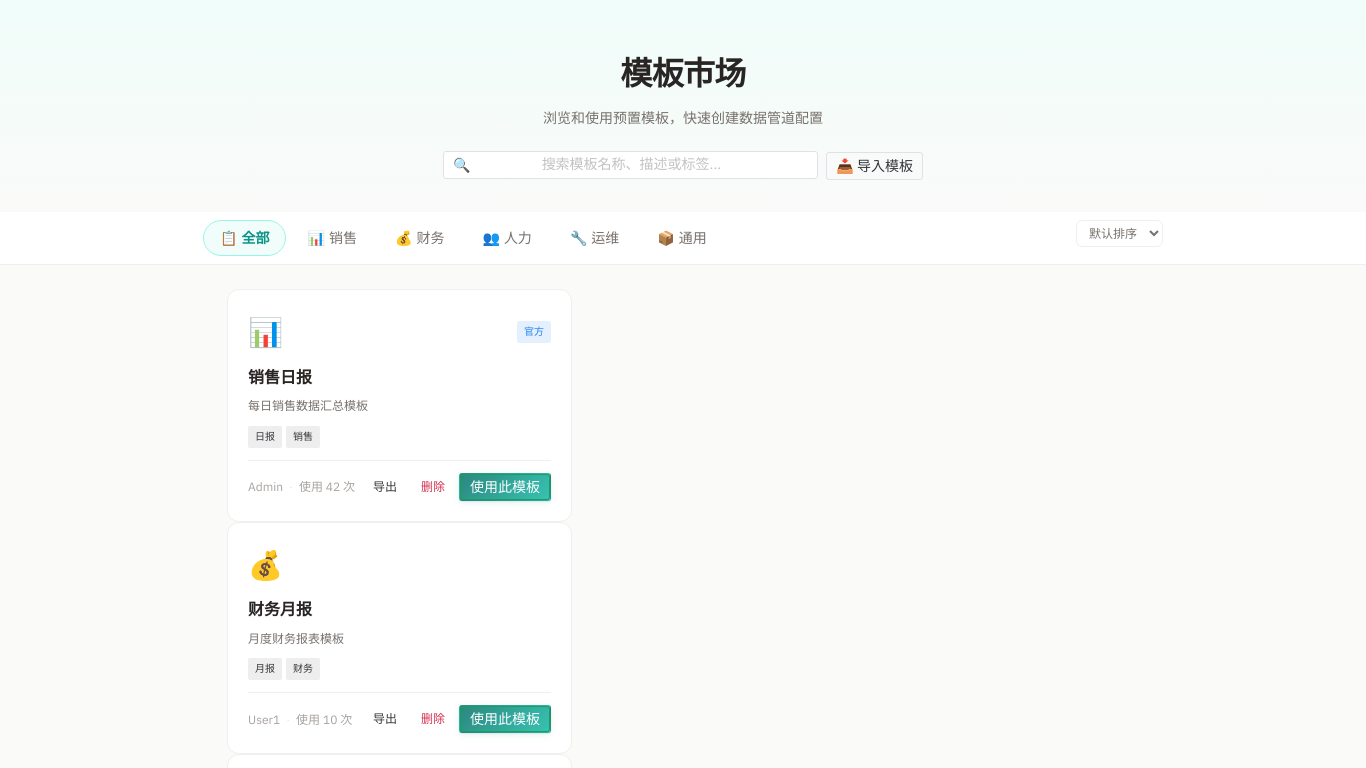
Test: TemplateMarketView › confirms delete and removes template from list
Click delete to enter confirm state
Click the button with class "market__card-delete" in the row of "使用 42 次" at (433, 486), box 411,472 -> 455,500
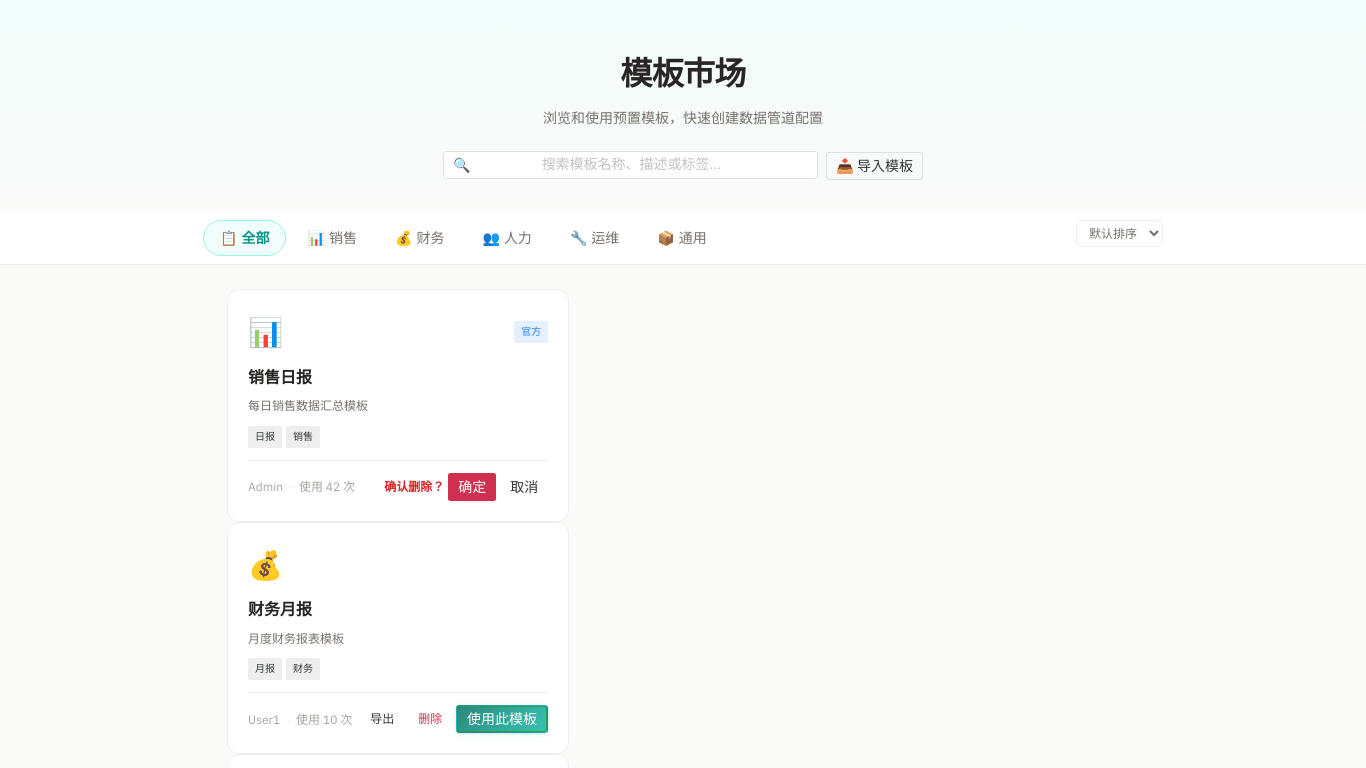
Expected: the button "确定" is shown
Click the button "确定" at (472, 486), box 448,472 -> 496,500
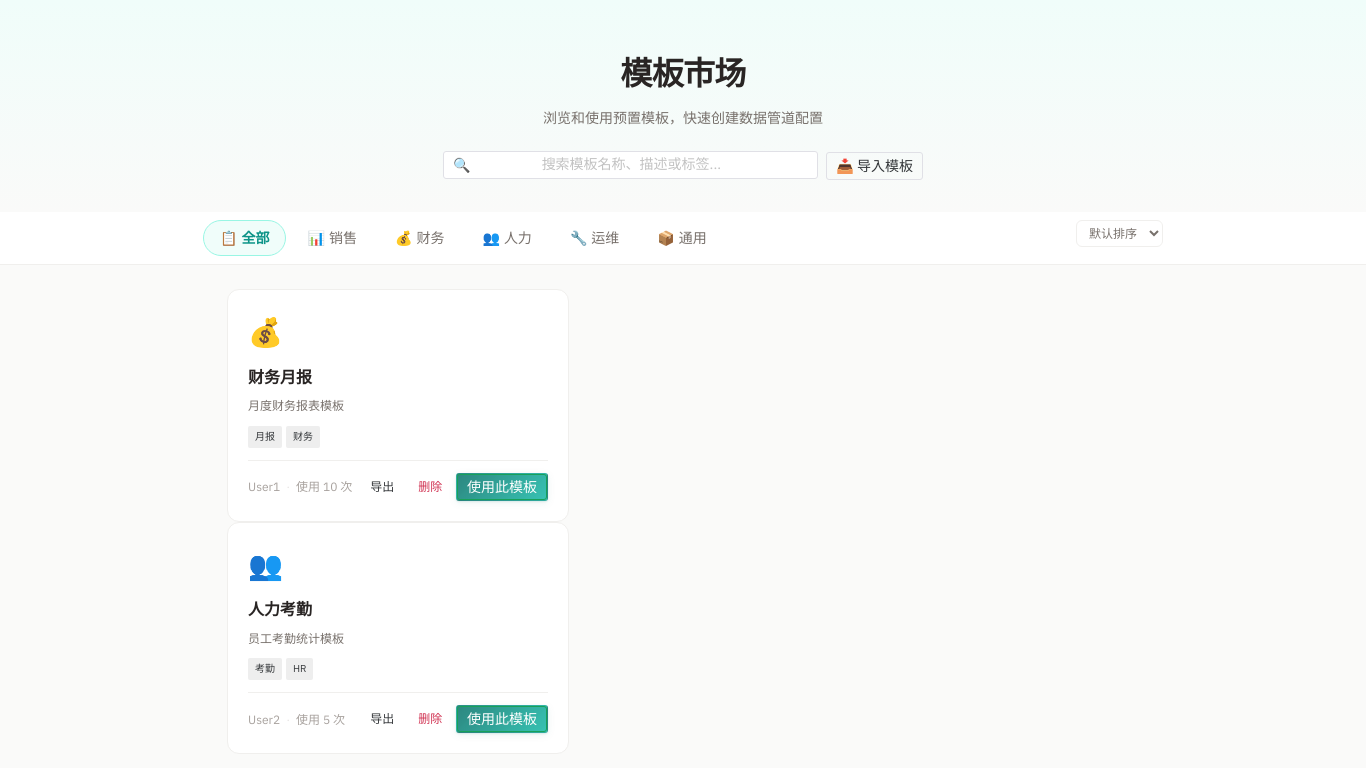
Expected: the number of elements with class "market__card" is 2, 227,289 -> 569,522; 227,522 -> 569,754
